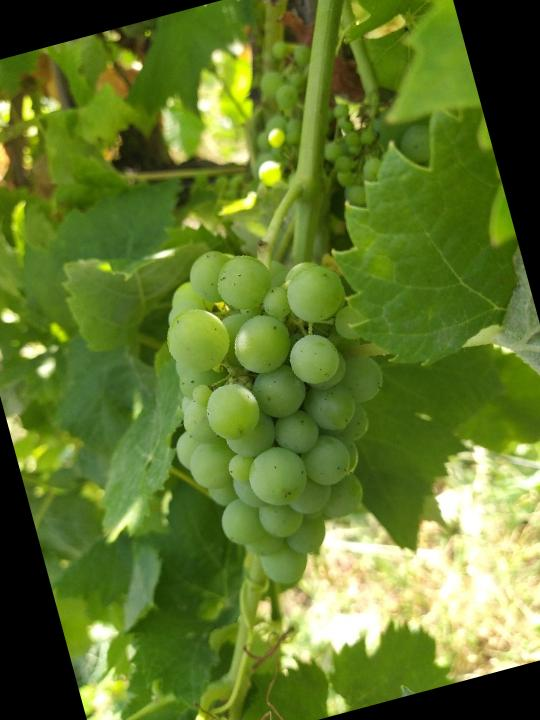grape: (123, 213, 433, 610)
